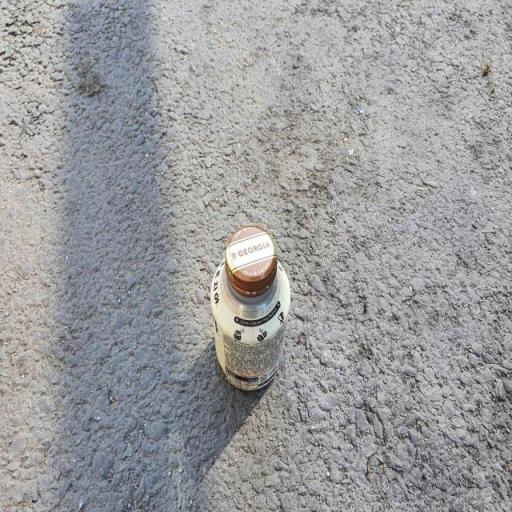metal: (184, 214, 314, 408)
